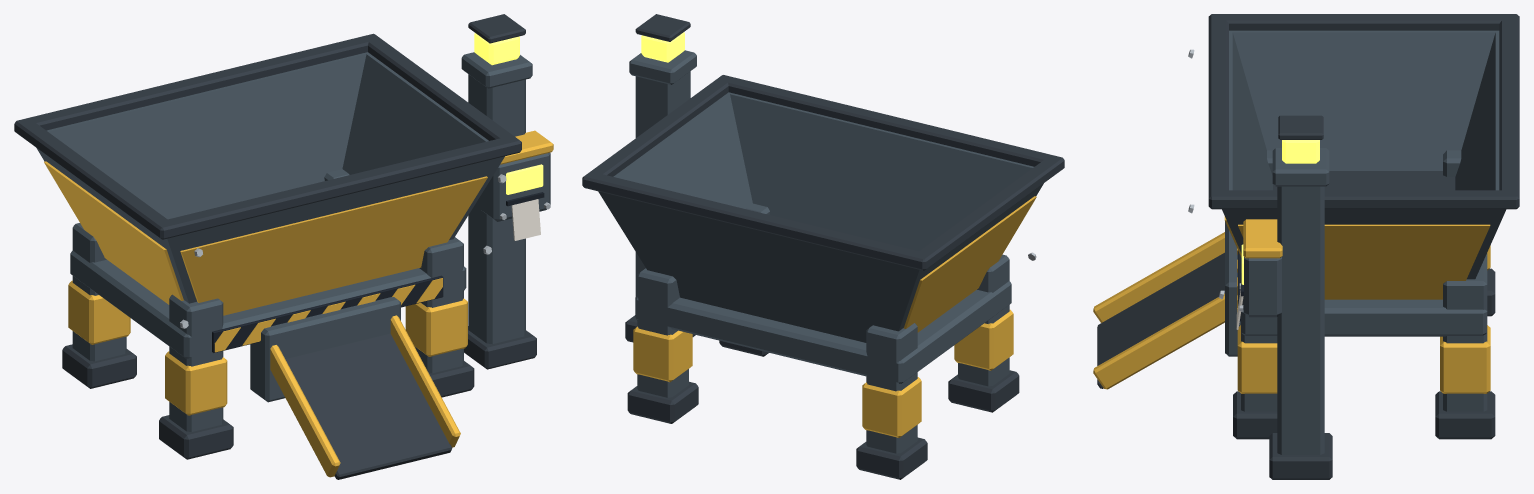
Rendered from Prop_RubbleHopper.fbx.
The picture shows the model from 3 angles, left to right: view 1: azimuth 30°, elevation 25°; view 2: azimuth 150°, elevation 25°; view 3: azimuth 270°, elevation 25°; orthographic projection. The views are drawn at different scales.
Visible parts, largest first — view 1: Frame, FrameDark, Amber_Metal, Slate, Receipt, Beacon, ReceiptLight; view 2: Frame, FrameDark, Amber_Metal, Beacon; view 3: Frame, FrameDark, Amber_Metal, Beacon.
Part boxes in pixels (x1,y1,x2,y2): Frame: (36,52,550,431); FrameDark: (14,14,536,479); Amber_Metal: (44,130,553,477); Slate: (212,192,544,352); Receipt: (511,199,540,240); Beacon: (474,33,519,65); ReceiptLight: (506,164,543,194); Frame: (598,50,1043,453); FrameDark: (582,14,1064,479); Amber_Metal: (633,196,1036,437); Beacon: (641,32,684,62); Frame: (1222,30,1506,454); FrameDark: (1097,14,1519,479); Amber_Metal: (1093,216,1490,393); Beacon: (1282,140,1319,163).
Size of the model in its own units: 7.84 by 6.01 by 6.75.
